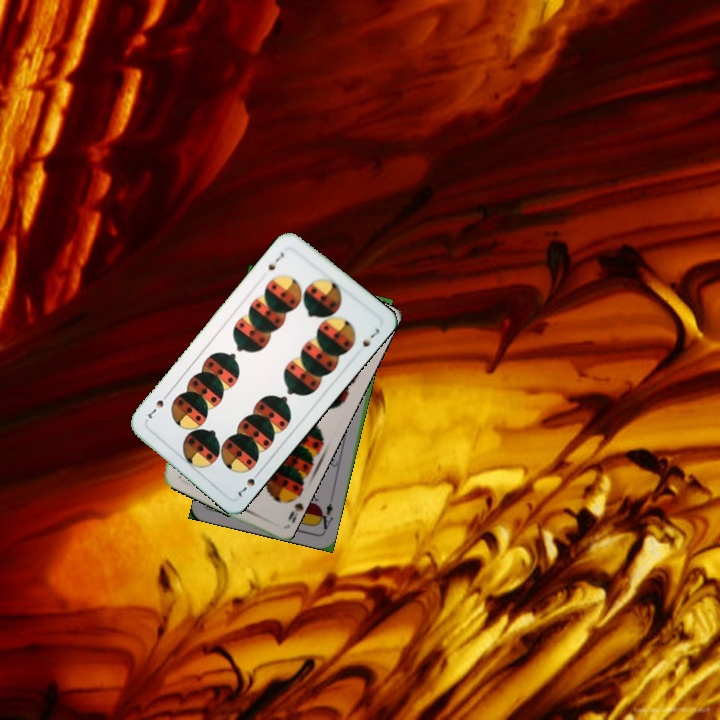EA: (314, 494, 335, 534)
S7: (233, 466, 263, 499), (264, 248, 287, 273)
S9: (282, 488, 304, 525)
